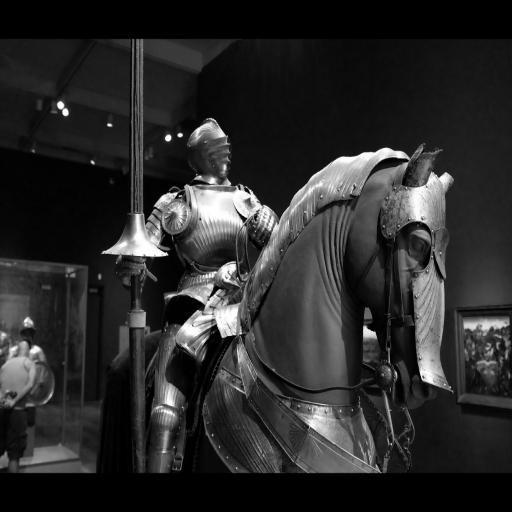horse: (93, 142, 456, 476)
